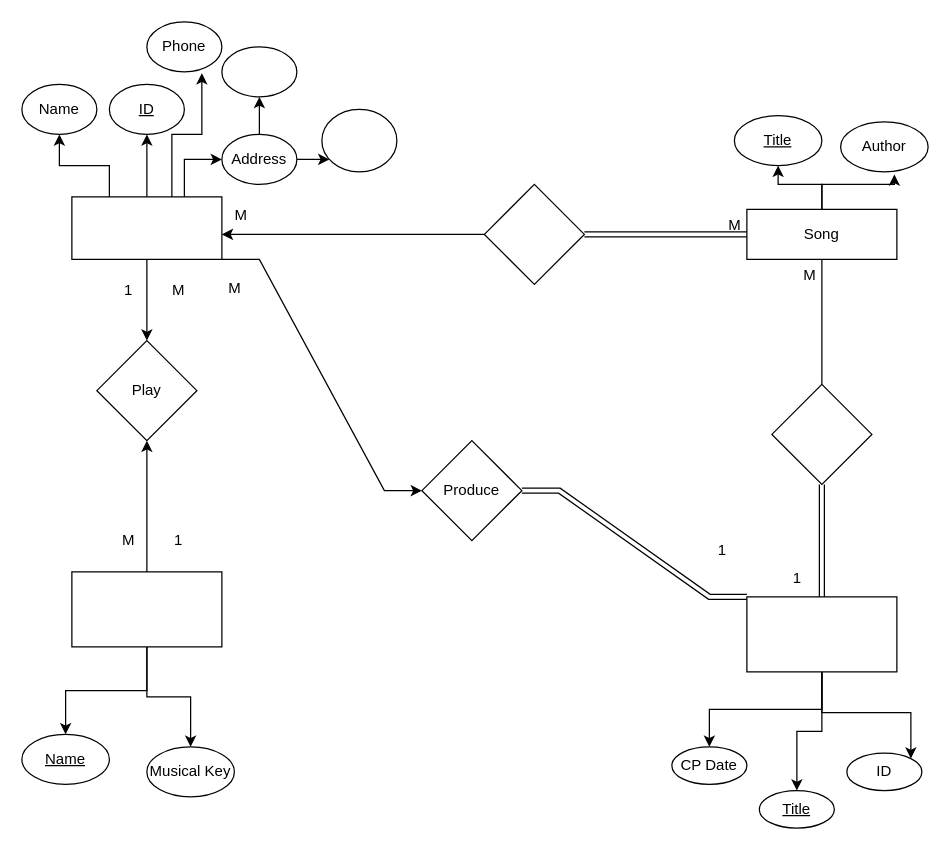
Image size: 950x850. Some labels were removed from this diagram. Each missing label, with the centre of its shape:
"Album" goes at [821,634].
"City" goes at [359,140].
"Has" goes at [821,433].
"Instrument" goes at [146,609].
"Musician" goes at [146,227].
"Perform" goes at [533,233].
"Street" goes at [259,71].
